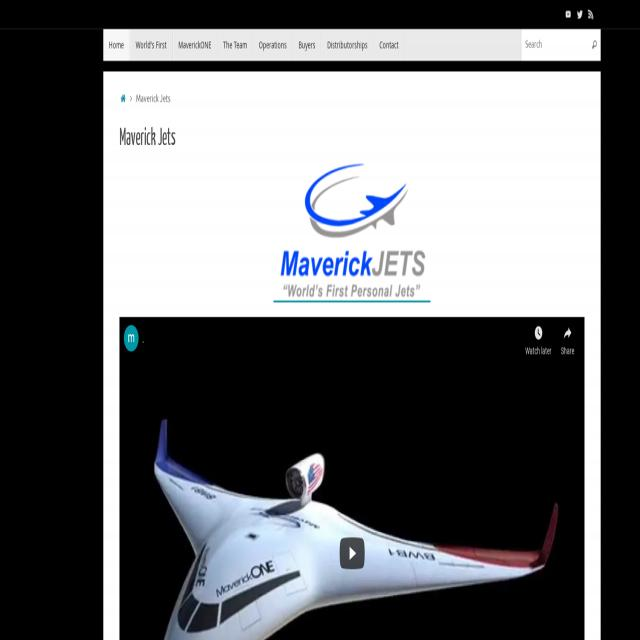button: (119, 317, 585, 640), (274, 160, 431, 302), (322, 29, 374, 61), (172, 29, 218, 61), (521, 321, 554, 365), (130, 29, 172, 61), (253, 29, 293, 61), (217, 29, 253, 61), (374, 29, 404, 61), (558, 320, 578, 365), (293, 29, 321, 61), (104, 29, 130, 61), (340, 538, 364, 568), (125, 325, 138, 353), (586, 6, 596, 22), (590, 36, 598, 56), (564, 6, 572, 22), (576, 6, 584, 22), (119, 92, 127, 105)
field: (521, 29, 601, 59)
